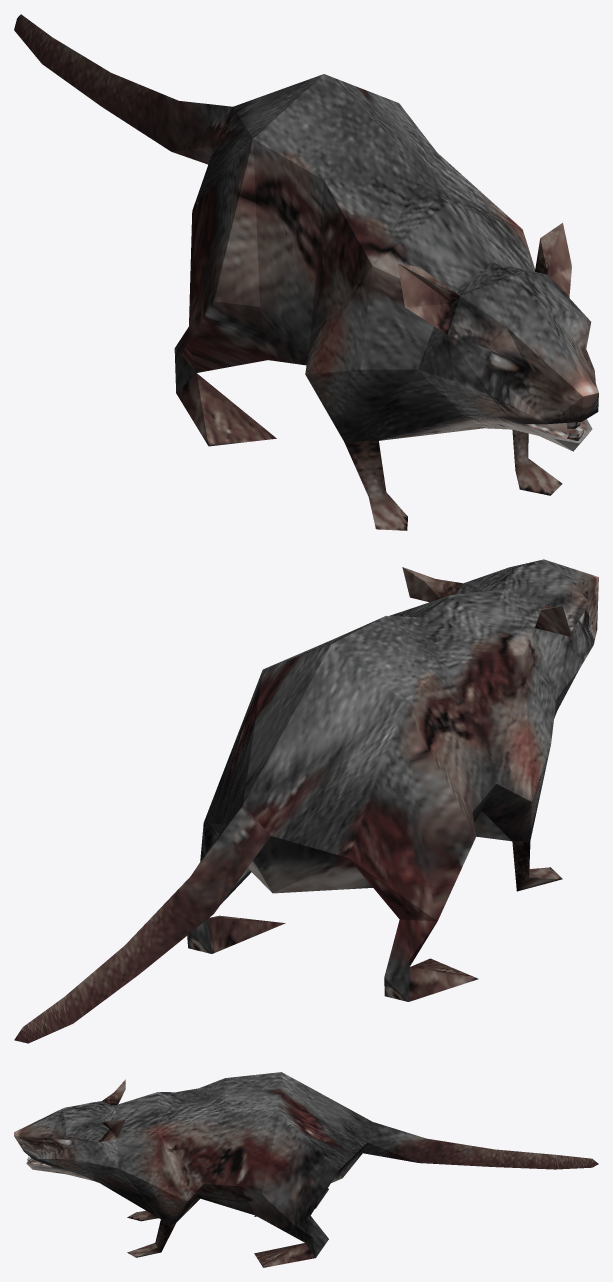
File: RE O zombi Rat.obj
3 views of the same model, one above another, from view 1: azimuth 30°, elevation 25°; view 2: azimuth 150°, elevation 25°; view 3: azimuth 270°, elevation 25° (orthographic). The views are drawn at different scales.
Parts seen in each view (by area): view 1: None_None; view 2: None_None; view 3: None_None.
Part boxes in pixels (x1,y1,x2,y2): None_None: (14, 14, 598, 530); None_None: (14, 559, 598, 1043); None_None: (14, 1072, 598, 1267).
Size of the model in its own units: 1.06 by 1.24 by 4.01.
Materials: 1 (1 with a texture image).
